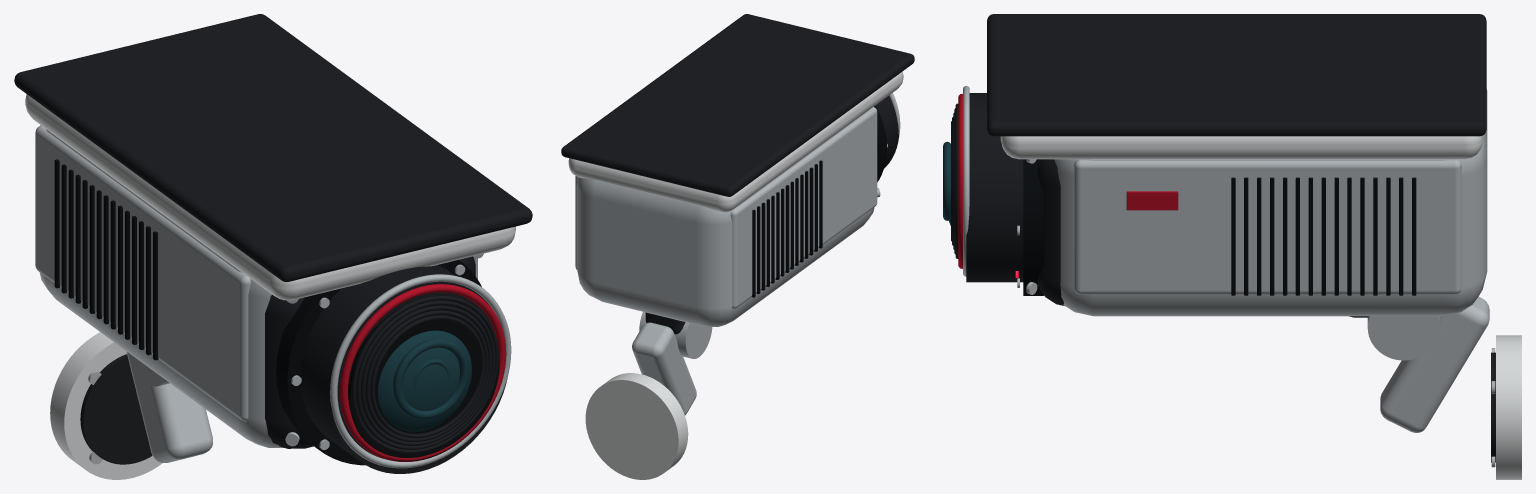
File: bullet.glb
3 renders of one model, left to right at view 1: azimuth 30°, elevation 25°; view 2: azimuth 150°, elevation 25°; view 3: azimuth 270°, elevation 25°, orthographic. The views are drawn at different scales.
Visible parts, largest first — view 1: Housing, Lens, Mount; view 2: Housing, Mount, Lens; view 3: Housing, Mount, Lens.
Boxes of the visible parts, left/top/right/bottom form: Housing: left=14, top=14, right=532, bottom=465; Lens: left=291, top=264, right=511, bottom=473; Mount: left=50, top=332, right=212, bottom=479; Housing: left=561, top=14, right=914, bottom=326; Mount: left=585, top=312, right=712, bottom=479; Lens: left=876, top=93, right=900, bottom=168; Housing: left=987, top=14, right=1487, bottom=316; Mount: left=1349, top=296, right=1521, bottom=479; Lens: left=943, top=86, right=1023, bottom=287.
Size of the model in its own units: 1.55 by 2.59 by 3.36.
